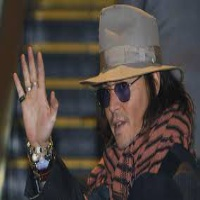ring: (17, 51, 29, 97)
